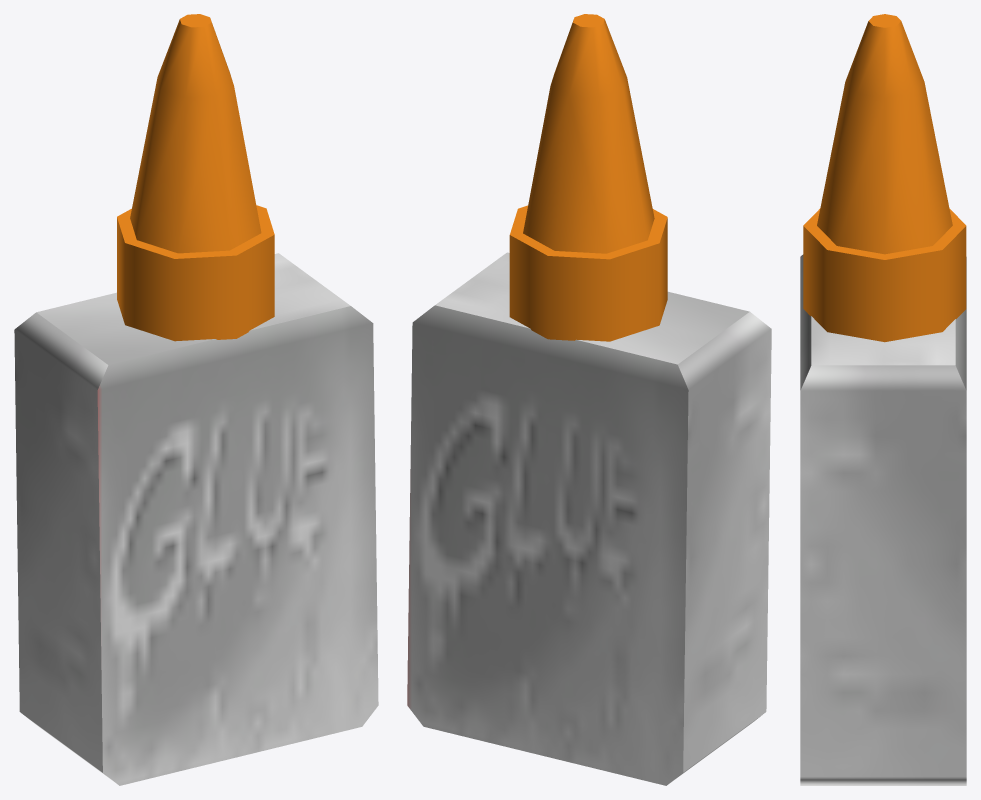
The model's file is GlueBottle.fbx.
The picture shows the model from 3 angles, left to right: view 1: azimuth 30°, elevation 25°; view 2: azimuth 150°, elevation 25°; view 3: azimuth 270°, elevation 25°; orthographic projection.
Visible parts, largest first — view 1: Maya_File_Assets:TexturedAssetsCurrent:glueBottle; view 2: Maya_File_Assets:TexturedAssetsCurrent:glueBottle; view 3: Maya_File_Assets:TexturedAssetsCurrent:glueBottle.
Part boxes in pixels (x1,y1,x2,y2): Maya_File_Assets:TexturedAssetsCurrent:glueBottle: [14, 14, 378, 785]; Maya_File_Assets:TexturedAssetsCurrent:glueBottle: [407, 14, 771, 785]; Maya_File_Assets:TexturedAssetsCurrent:glueBottle: [800, 14, 966, 785].
Size of the model in its own units: 0.1528 by 0.3665 by 0.0783.
